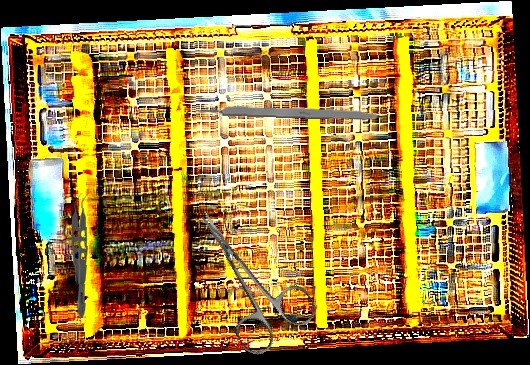Iris Scissors: (171, 190, 323, 361)
Scalpel Handle: (196, 102, 385, 122)
Tissue Forceps: (68, 192, 97, 319)
